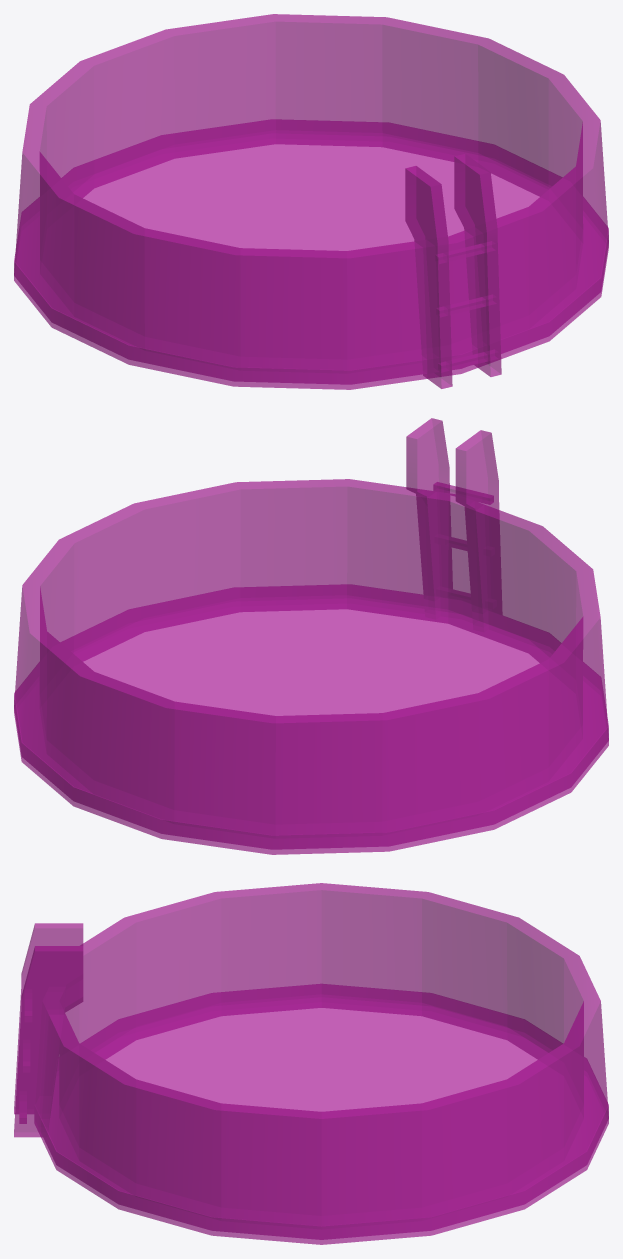
Rendered from SM_Prop_Dive_Tower_Pool_01_Collision.fbx.
3 views of the same model, one above another, from view 1: azimuth 30°, elevation 25°; view 2: azimuth 150°, elevation 25°; view 3: azimuth 270°, elevation 25° (orthographic). The views are drawn at different scales.
Parts seen in each view (by area): view 1: SM_Prop_Dive_Tower_Pool_01_Collision; view 2: SM_Prop_Dive_Tower_Pool_01_Collision; view 3: SM_Prop_Dive_Tower_Pool_01_Collision.
Boxes of the visible parts, x1,y1,x2,y2 form: SM_Prop_Dive_Tower_Pool_01_Collision: (14, 14, 608, 389); SM_Prop_Dive_Tower_Pool_01_Collision: (14, 418, 608, 854); SM_Prop_Dive_Tower_Pool_01_Collision: (14, 883, 608, 1244).
Size of the model in its own units: 498 by 178 by 516.
